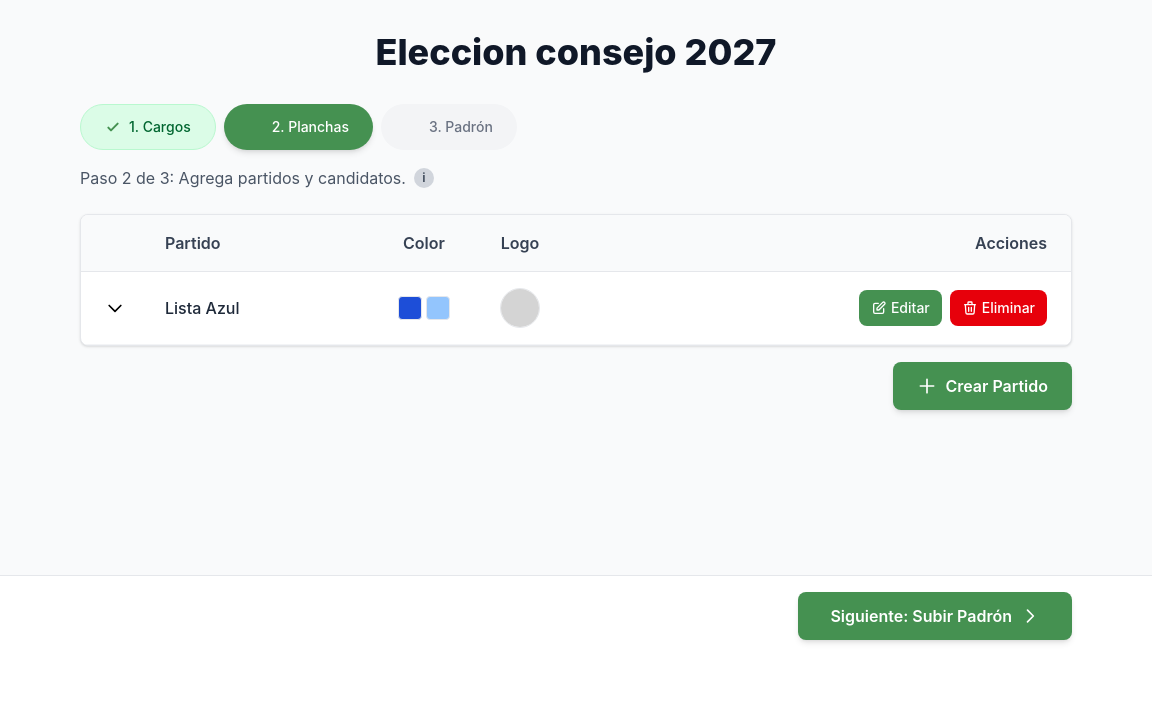
Test case: MX-04 | boleta y configuración › [MX-04][ELE-OPT-P0-003][INTEGRACION] bloquea color inválido y conserva el formulario
Click the button "Crear Partido": coordinates (983, 386) [894,362,1072,410]
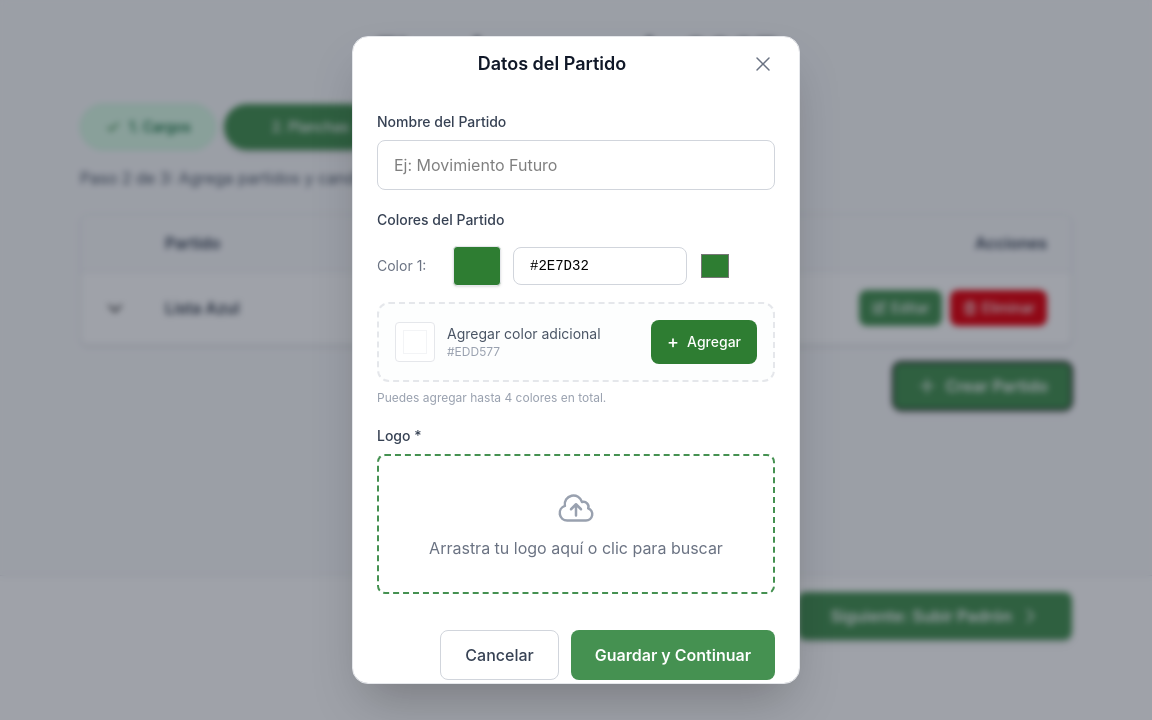
In the field with placeholder "Ej: Movimiento Futuro": coordinates (576, 164) [377,140,775,190], type "Lista Azul"
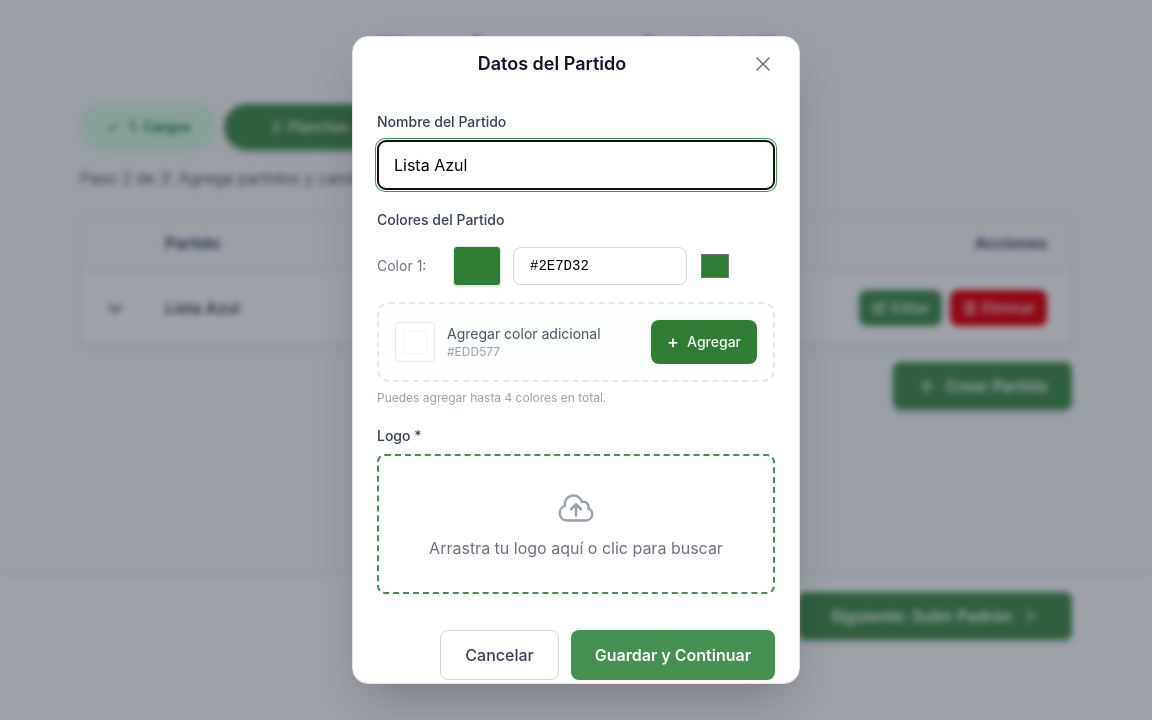
Replace the text in the field with placeholder "#000000" below "Colores del Partido" with "zzzzzz": coordinates (600, 266) [513,246,687,284]
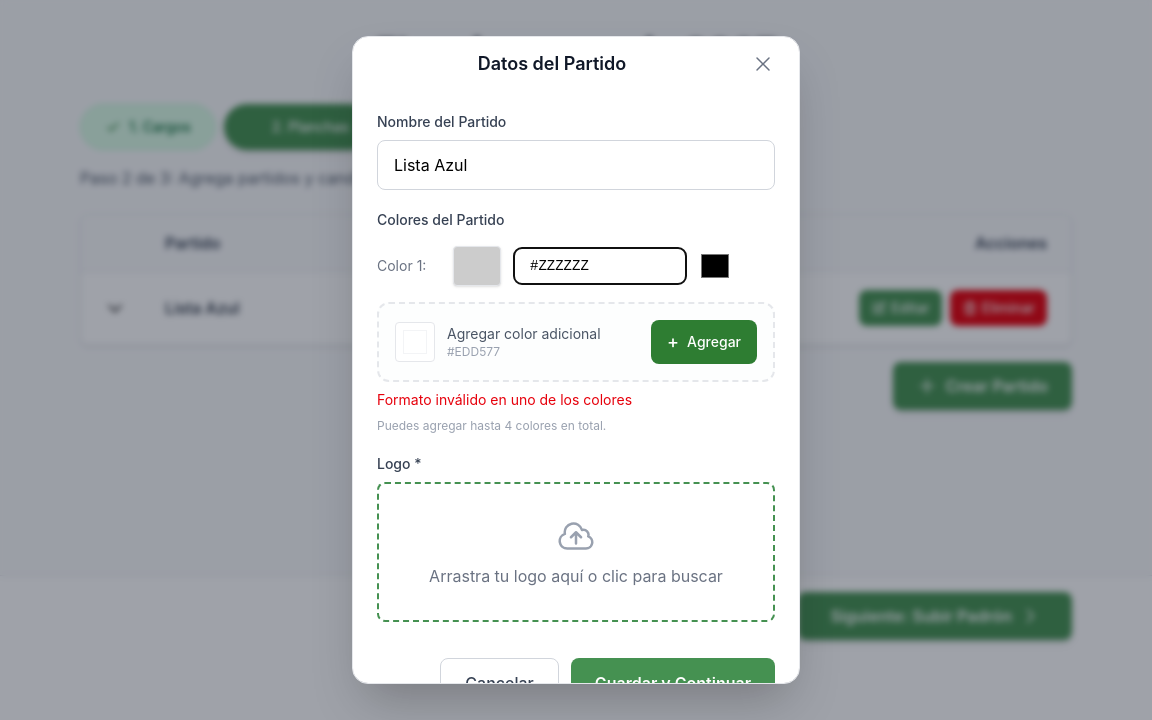
Click the button "Guardar y Continuar": coordinates (673, 682) [571,658,775,708]
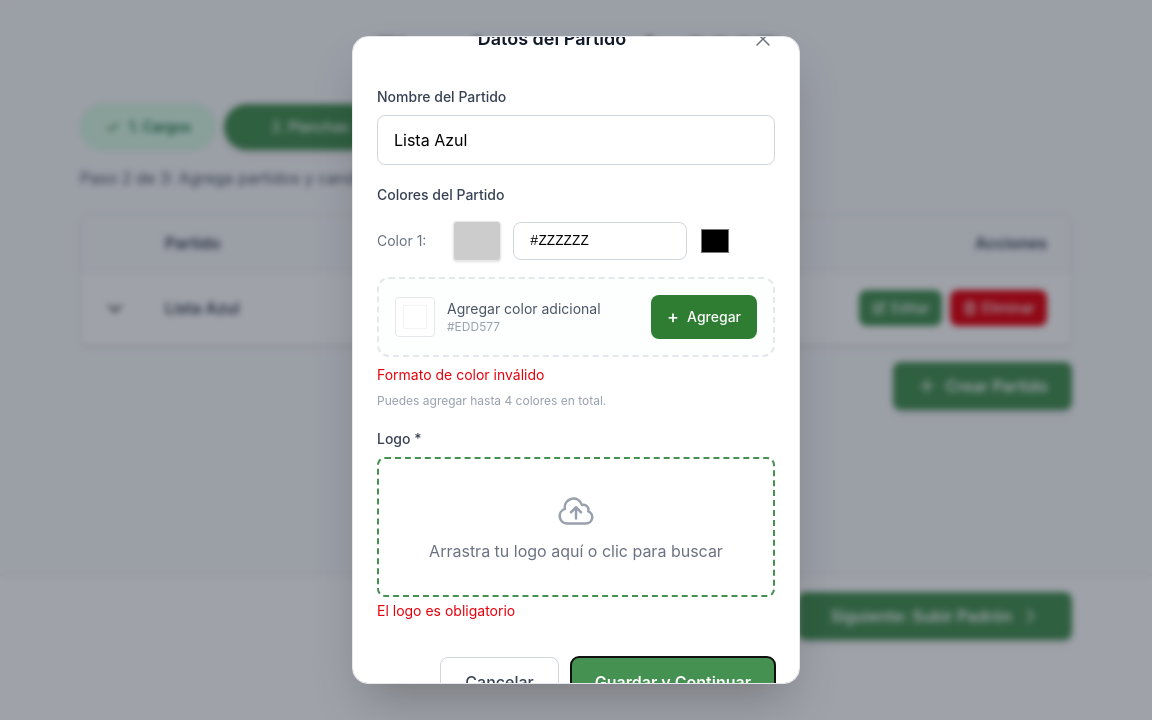
Check: the text "Formato de color inválido" is shown, box [377,366,544,382]
